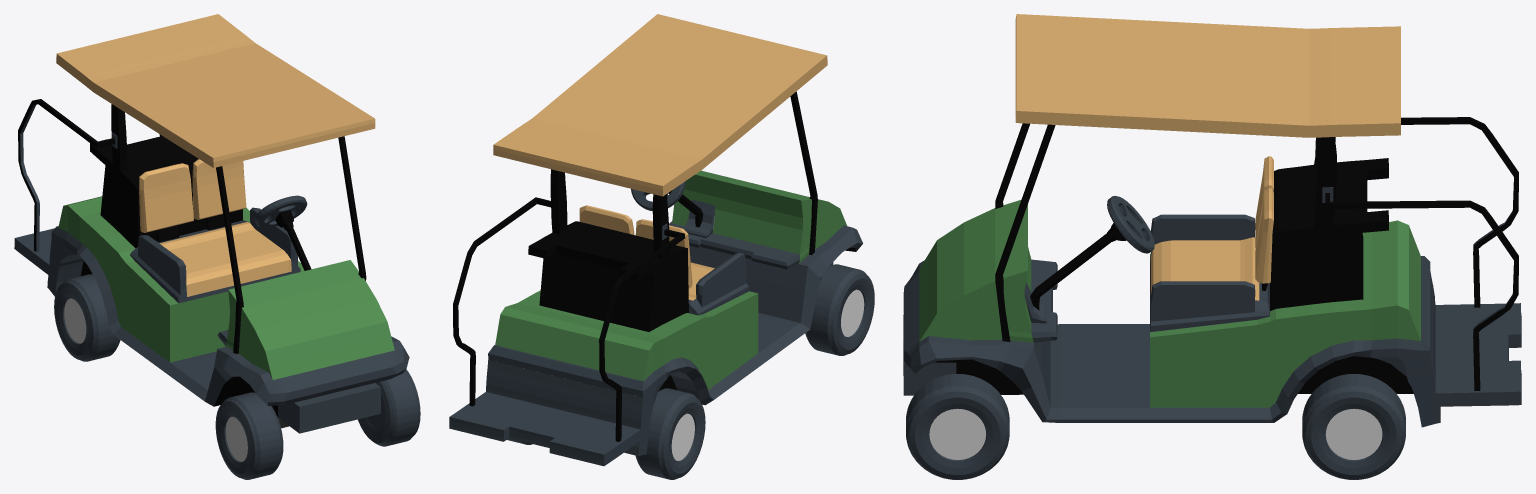
File: golfcart.fbx
3 views of the same model, side by side, from view 1: azimuth 30°, elevation 25°; view 2: azimuth 150°, elevation 25°; view 3: azimuth 270°, elevation 25° (orthographic). The views are drawn at different scales.
Parts seen in each view (by area): view 1: Cube, Roda, Cube.001; view 2: Cube, Roda, Cube.001; view 3: Cube, Roda, Cube.001.
Part boxes in pixels (box(x1,y1,x2,y2)): Cube: box(14, 14, 409, 433); Roda: box(54, 274, 420, 479); Cube.001: box(254, 195, 311, 270); Cube: box(449, 14, 862, 466); Roda: box(507, 264, 874, 479); Cube.001: box(631, 181, 715, 238); Cube: box(903, 14, 1521, 427); Roda: box(906, 374, 1405, 479); Cube.001: box(1024, 196, 1154, 323).
Size of the model in its own units: 479 by 820 by 1240.
